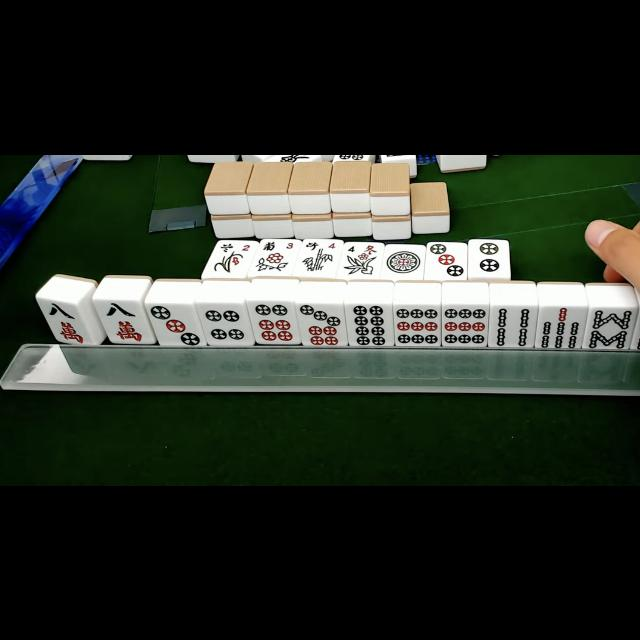b4: (490, 304, 534, 346)
b7: (536, 305, 584, 349)
b8: (584, 306, 634, 348)
c8: (100, 298, 148, 342), (42, 299, 88, 343)
d1: (384, 244, 424, 278)
d2: (469, 239, 508, 277)
d3: (150, 302, 200, 346), (426, 242, 466, 278)
d4: (202, 302, 250, 344)
d6: (250, 301, 298, 343)
d7: (297, 302, 345, 346)
d8: (348, 302, 392, 346)
d9: (394, 304, 440, 346), (442, 304, 488, 346)
f2: (215, 238, 255, 254)
f3: (260, 238, 298, 254)
f4: (302, 239, 340, 253)
s4: (343, 242, 381, 256)
